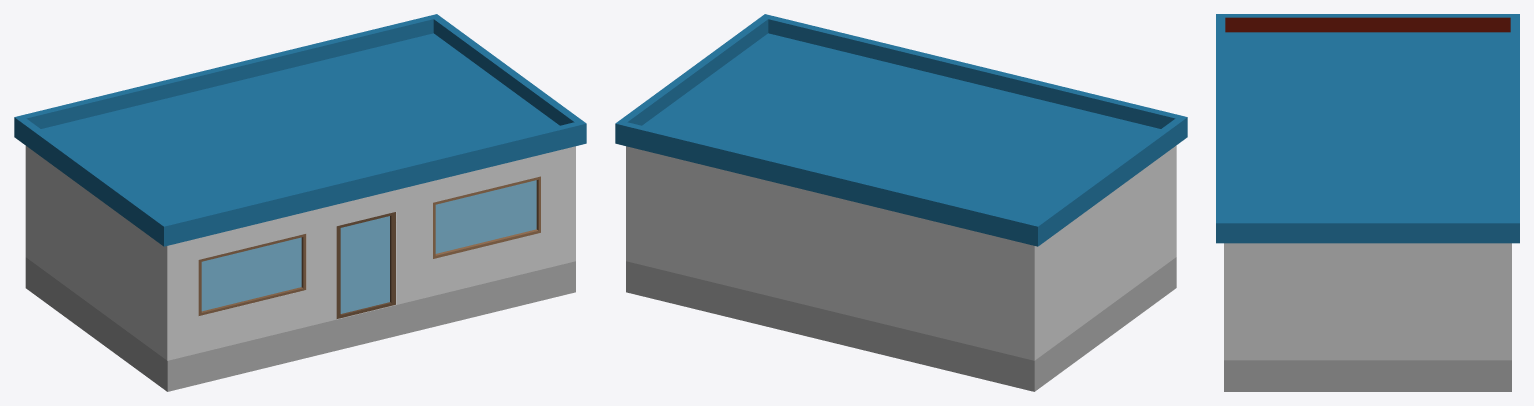
Rendered from building_5.fbx.
The picture shows the model from 3 angles, left to right: view 1: azimuth 30°, elevation 25°; view 2: azimuth 150°, elevation 25°; view 3: azimuth 270°, elevation 25°; orthographic projection.
Parts seen in each view (by area): view 1: Cube; view 2: Cube; view 3: Cube.
Part boxes in pixels (<box>): Cube: <box>14,14,586,391</box>; Cube: <box>615,14,1187,391</box>; Cube: <box>1216,14,1519,391</box>.
Size of the model in its own units: 892 by 342 by 547.
Materials: 1 (1 with a texture image).
